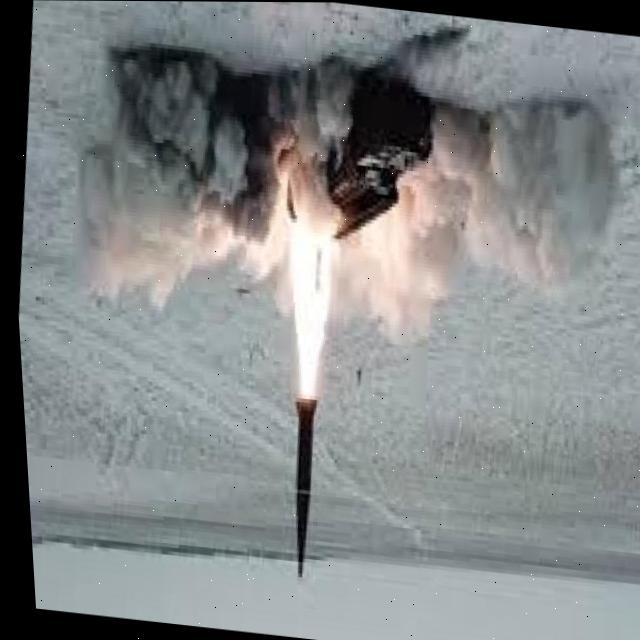missile: (266, 391, 325, 577)
